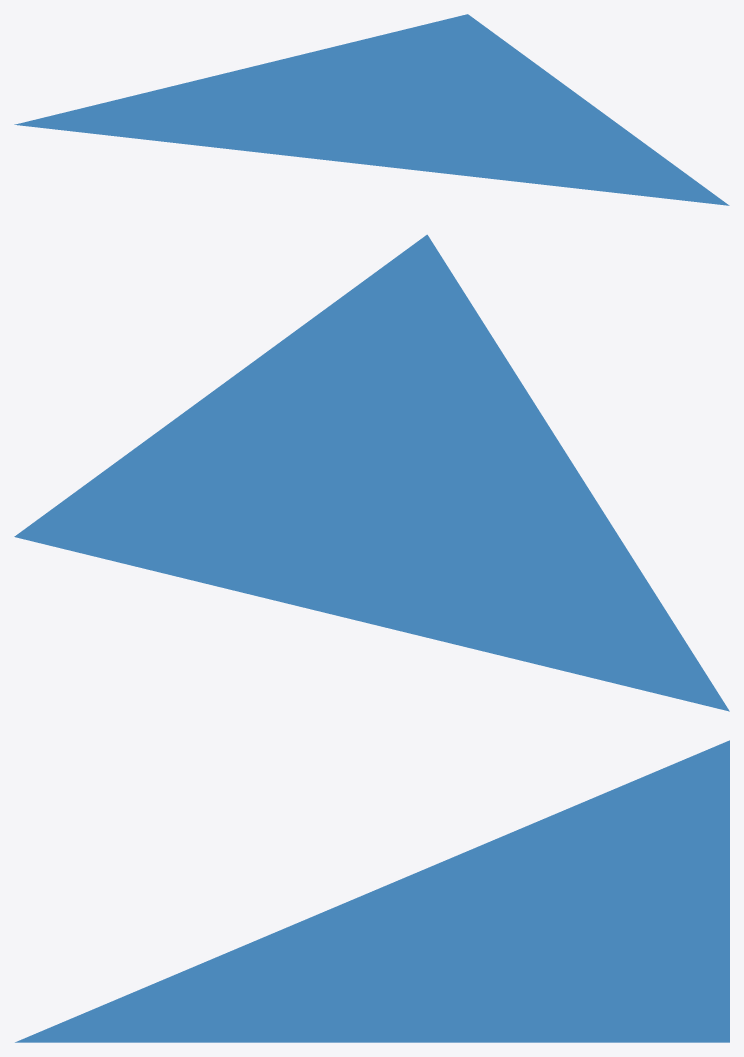
File: Pavement_Cor_B.fbx
The picture shows the model from 3 angles, top to bottom: view 1: azimuth 30°, elevation 25°; view 2: azimuth 150°, elevation 25°; view 3: azimuth 270°, elevation 25°; orthographic projection. The views are drawn at different scales.
Parts seen in each view (by area): view 1: Pavement_Cor_B; view 2: Pavement_Cor_B; view 3: Pavement_Cor_B.
Part boxes in pixels (x1,y1,x2,y2): Pavement_Cor_B: (14, 14, 729, 205); Pavement_Cor_B: (14, 234, 729, 711); Pavement_Cor_B: (15, 740, 729, 1042).
Bounding box in the file's own units: 900 × 0.000146 × 900.
